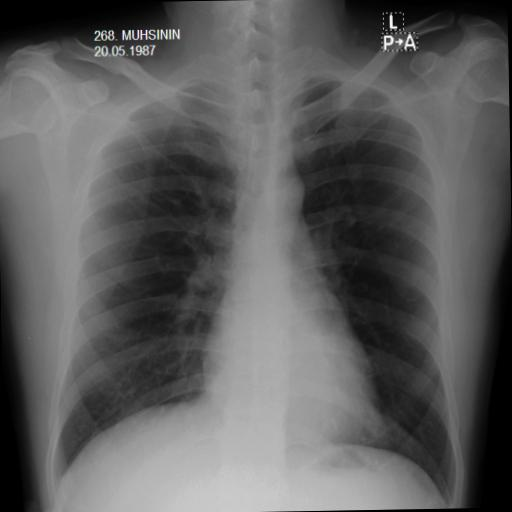normal: (33, 47, 466, 512)
